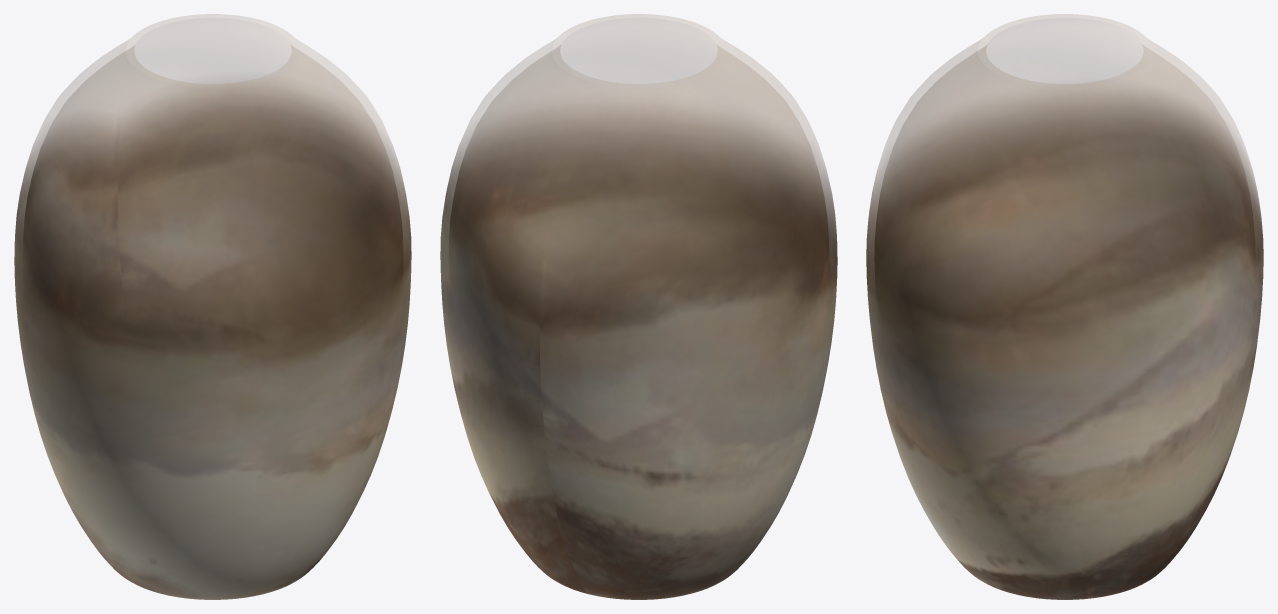
File: waza.glb
3 renders of one model, left to right at view 1: azimuth 30°, elevation 25°; view 2: azimuth 150°, elevation 25°; view 3: azimuth 270°, elevation 25°, orthographic.
Visible parts, largest first — view 1: 0_media\gen\BZO\0\7\e\jemsmdpoxsozaftyaxw__r2__.bzo_1; view 2: 0_media\gen\BZO\0\7\e\jemsmdpoxsozaftyaxw__r2__.bzo_1; view 3: 0_media\gen\BZO\0\7\e\jemsmdpoxsozaftyaxw__r2__.bzo_1.
Part boxes in pixels (x1=…): 0_media\gen\BZO\0\7\e\jemsmdpoxsozaftyaxw__r2__.bzo_1: x1=14, y1=18, x2=411, y2=599; 0_media\gen\BZO\0\7\e\jemsmdpoxsozaftyaxw__r2__.bzo_1: x1=440, y1=18, x2=837, y2=599; 0_media\gen\BZO\0\7\e\jemsmdpoxsozaftyaxw__r2__.bzo_1: x1=866, y1=18, x2=1263, y2=599.
Size of the model in its own units: 0.2604 by 0.3683 by 0.2604.
Materials: 2 (2 with a texture image).
